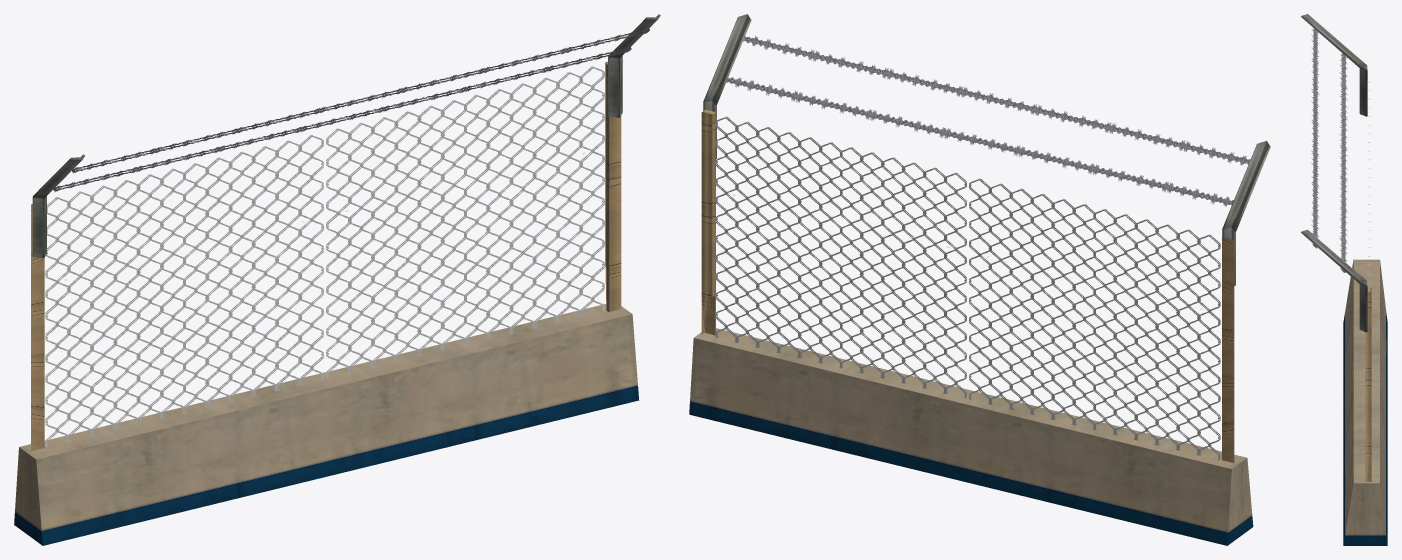
The model's file is airport fence.fbx.
3 renders of one model, left to right at view 1: azimuth 30°, elevation 25°; view 2: azimuth 150°, elevation 25°; view 3: azimuth 270°, elevation 25°, orthographic. The views are drawn at different scales.
Parts seen in each view (by area): view 1: Object_7.002; view 2: Object_7.002; view 3: Object_7.002.
Part boxes in pixels (x1,y1,x2,y2): Object_7.002: (14,14,660,545); Object_7.002: (689,14,1270,545); Object_7.002: (1301,14,1387,545).
Bounding box in the file's own units: 392 × 255 × 65.43.
Materials: 1 (1 with a texture image).
